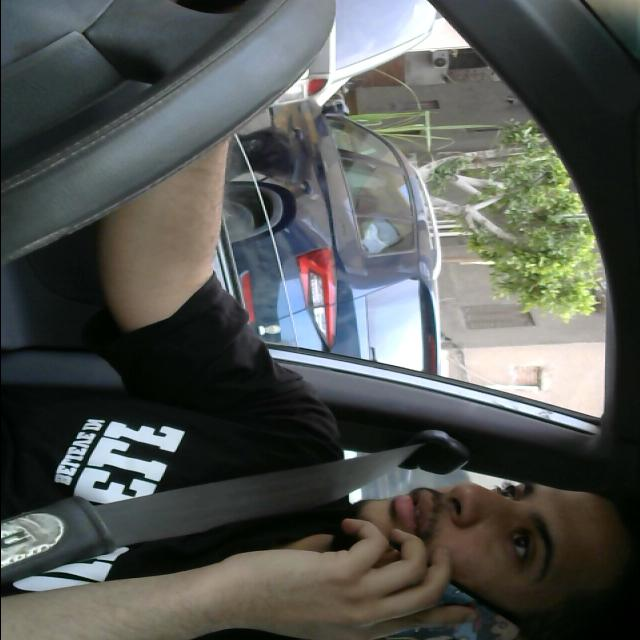mobile use: (288, 521, 512, 640)
